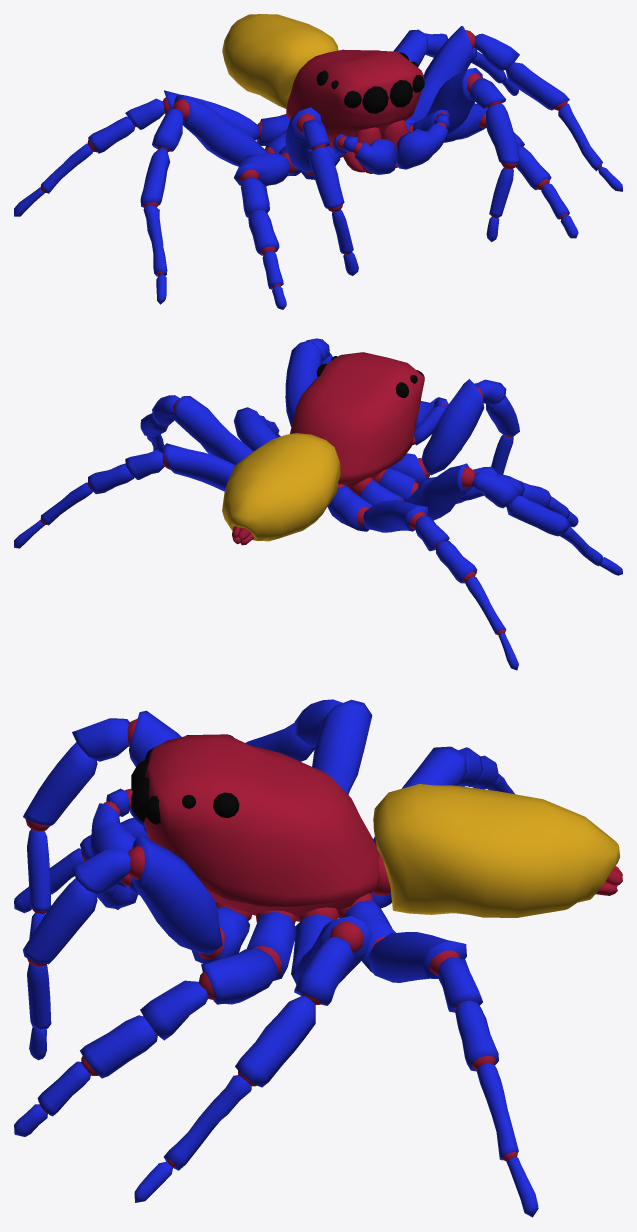
File: spider.fbx
The picture shows the model from 3 angles, top to bottom: view 1: azimuth 30°, elevation 25°; view 2: azimuth 150°, elevation 25°; view 3: azimuth 270°, elevation 25°; orthographic projection. The views are drawn at different scales.
Visible parts, largest first — view 1: spider_body, spider_bely, spider_leg_3_R_001, spider_leg_3_L_001, spider_leg_1_L_001, spider_arm_L_003, spider_leg_1_R_003, spider_leg_3_L_003, spider_leg_1_L_003, spider_leg_2_R_001, spider_arm_R_003, spider_leg_3_R_003 (+24 smaller); view 2: spider_body, spider_bely, spider_leg_1_R_001, spider_leg_3_L_001, spider_leg_4_L_001, spider_leg_3_R_001, spider_leg_1_L_001, spider_leg_4_R_001, spider_leg_3_R_003, spider_leg_3_R_002, spider_leg_2_L_001, spider_leg_4_R_000 (+16 smaller); view 3: spider_body, spider_bely, spider_leg_1_L_001, spider_leg_3_R_001, spider_leg_3_L_003, spider_leg_4_L_001, spider_leg_2_L_001, spider_leg_1_L_003, spider_leg_3_L_002, spider_leg_1_R_003, spider_leg_2_L_003, spider_leg_2_L_002 (+22 smaller).
Boxes of the visible parts, x1,y1,x2,y2 form: spider_body: (286,49,424,143); spider_bely: (222,14,338,108); spider_leg_3_R_001: (174,95,274,166); spider_leg_3_L_001: (409,26,473,121); spider_leg_1_L_001: (426,68,482,134); spider_arm_L_003: (396,122,447,169); spider_leg_1_R_003: (309,144,344,208); spider_leg_3_L_003: (505,62,569,110); spider_leg_1_L_003: (486,101,519,163); spider_leg_2_R_001: (234,152,296,186); spider_arm_R_003: (353,138,397,174); spider_leg_3_R_003: (140,146,170,207); spider_body: (290,352,424,487); spider_bely: (222,433,340,545); spider_leg_1_R_001: (417,379,484,478); spider_leg_3_L_001: (174,396,253,464); spider_leg_4_L_001: (164,443,235,491); spider_leg_3_R_001: (399,463,473,520); spider_leg_1_L_001: (285,340,322,426); spider_leg_4_R_001: (356,500,428,532); spider_leg_3_R_003: (506,495,569,536); spider_leg_3_R_002: (461,466,519,508); spider_leg_2_L_001: (233,407,277,450); spider_leg_4_R_000: (327,484,371,531); spider_body: (143,734,379,921); spider_bely: (371,784,622,917); spider_leg_1_L_001: (130,834,224,959); spider_leg_3_R_001: (312,699,372,794); spider_leg_3_L_003: (235,993,321,1087); spider_leg_4_L_001: (368,932,466,982); spider_leg_2_L_001: (201,946,281,1004); spider_leg_1_L_003: (23,878,97,964); spider_leg_3_L_002: (294,921,363,1005); spider_leg_1_R_003: (23,742,97,825); spider_leg_2_L_003: (80,1015,158,1078); spider_leg_2_L_002: (140,971,214,1040).
Size of the model in its own units: 62.17 by 20.16 by 41.2.
